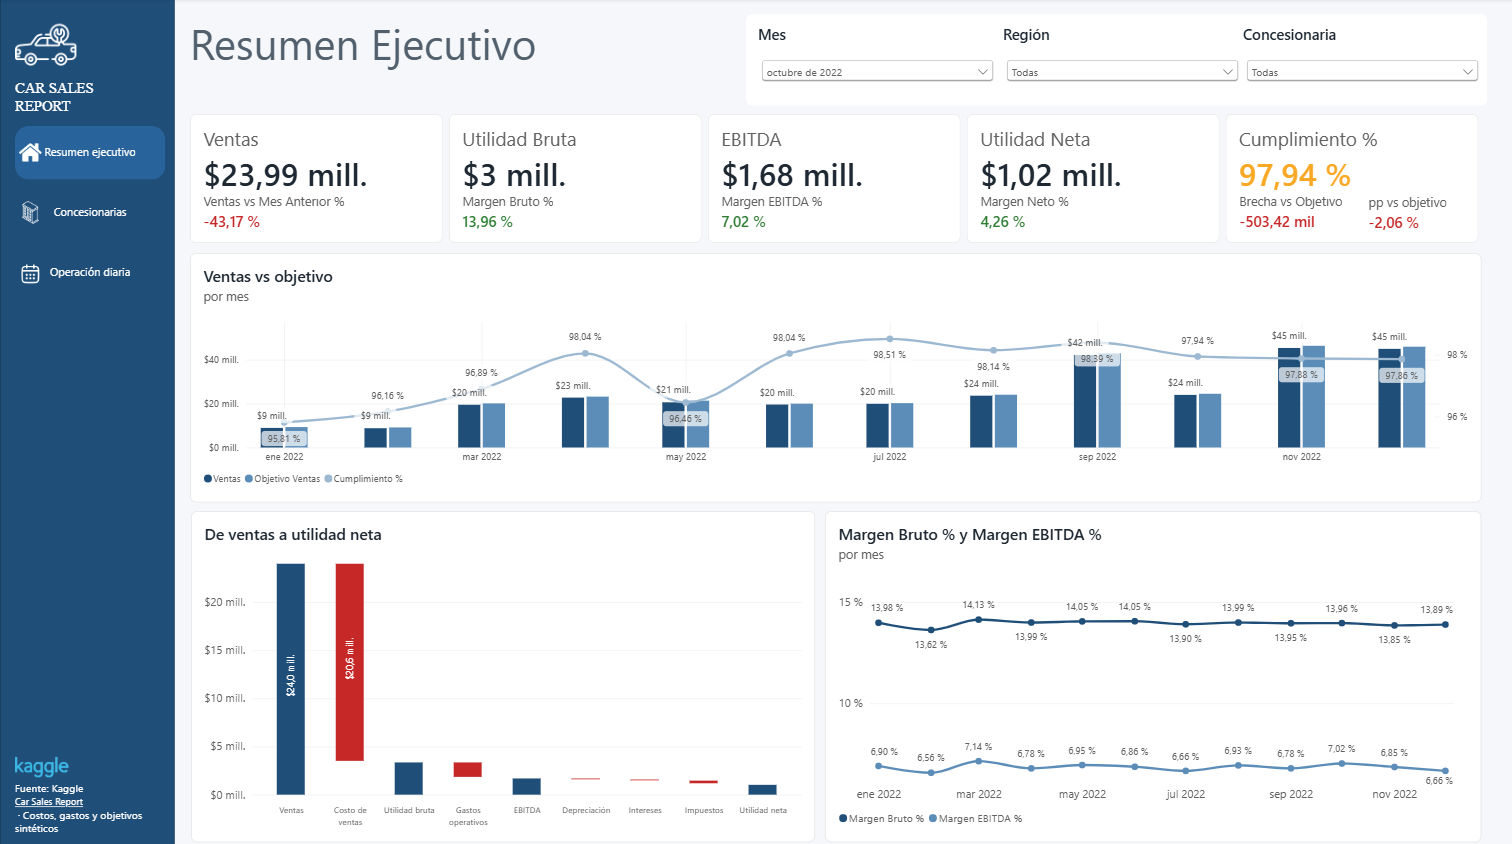

What the dashboard file says about the page in this screenshot:
{"tool":"powerbi","page":{"name":"Resumen ejecutivo","canvas":[1920,1080],"ordinal":0},"visuals":[{"type":"shape","box":[0,0,221.8,1080],"z":0,"group":"g2"},{"type":"shape","box":[948.3,20,941.7,116.7],"z":0,"group":"g1"},{"type":"group","id":"g1","title":"Group 2","box":[948.3,20,941.7,116.7],"z":0},{"type":"cardVisual","fields":{"Data":["kpis.Ventas","kpis.Utilidad Bruta","kpis.EBITDA","kpis.Utilidad Neta","kpis.Cumplimiento %"]},"box":[242.1,147.7,1646,164.4],"z":0,"group":"g4"},{"type":"textbox","box":[241.7,20,685,116.7],"z":1000},{"type":"textbox","box":[18.8,104.1,191.2,56.5],"z":1000,"group":"g2"},{"type":"cardVisual","fields":{"Data":["kpis.Ventas vs Mes Anterior %","kpis.Margen Bruto %","kpis.Margen EBITDA %","kpis.Margen Neto %","kpis.Brecha vs Objetivo"]},"box":[243.5,253.7,1646,40.3],"z":1000,"group":"g4"},{"type":"slicer","title":"Mes","fields":{"Values":["DimMes.mes"]},"box":[963.3,33.3,303.8,103.3],"z":2000,"group":"g1"},{"type":"pageNavigator","box":[18.6,162.9,191.4,222.9],"z":2000,"group":"g2"},{"type":"lineClusteredColumnComboChart","title":"Ventas vs objetivo","fields":{"Category":["DimMes.mes"],"Y":["kpis.Ventas","kpis.Objetivo Ventas"],"Y2":["kpis.Cumplimiento %"]},"box":[242.1,324.3,1647.5,316.7],"z":3000},{"type":"lineChart","title":"Margen Bruto % y Margen EBITDA %","fields":{"Category":["DimMes.mes"],"Y":["kpis.Margen Bruto %","kpis.Margen EBITDA %"]},"box":[1049.1,651.7,840.5,421.8],"z":4000},{"type":"group","id":"g2","title":"Group 1","box":[0,0,221.8,1080],"z":5000,"group":"g3"},{"type":"group","id":"g3","title":"Group 3","box":[0,0,221.8,1080],"z":5000},{"type":"columnChart","title":"De ventas a utilidad neta","fields":{"Category":["CascadaPasos.Paso"],"Y":["kpis.Cascada Base","kpis.Cascada Total","kpis.Cascada Baja"]},"box":[242.9,651.4,792.9,421.4],"z":6000},{"type":"image","box":[18.8,20.6,78.6,77.9],"z":7000,"group":"g2"},{"type":"slicer","title":"Región","fields":{"Values":["dim_concesionaria.region"]},"box":[1274.4,33.3,303.8,103.3],"z":7000,"group":"g1"},{"type":"group","id":"g4","title":"Group 4","box":[242.1,147.7,1647.5,164.4],"z":7000},{"type":"cardVisual","fields":{"Data":["kpis.pp vs objetivo"]},"box":[1723.1,243.1,151.1,62.2],"z":7500},{"type":"slicer","title":"Concesionaria","fields":{"Values":["dim_concesionaria.dealer_name"]},"box":[1579.4,33.3,303.8,103.3],"z":8000,"group":"g1"},{"type":"image","box":[18.5,181.2,39.5,28.6],"z":9500,"group":"g3"},{"type":"image","box":[18.5,258.5,39.5,28.6],"z":10000,"group":"g3"},{"type":"image","box":[18.5,336.5,39.5,28.6],"z":10500,"group":"g3"},{"type":"image","box":[18.5,959.2,68.2,35.9],"z":11000,"group":"g2"},{"type":"textbox","box":[18.5,995.4,170,77.7],"z":12000,"group":"g2"}]}

Visuals, with their boxes on the page's 1920x1080 design canvas (x1, y1, x2, y2). These are canvas units, not pixel positions in the 1512x844 screenshot, which may show the page scaled, cropped or inside an application window:
shape: bbox=[0, 0, 222, 1080]
shape: bbox=[948, 20, 1890, 137]
"Group 2" group: bbox=[948, 20, 1890, 137]
cardVisual - kpis.Ventas x kpis.Utilidad Bruta: bbox=[242, 148, 1888, 312]
textbox: bbox=[242, 20, 927, 137]
textbox: bbox=[19, 104, 210, 161]
cardVisual - kpis.Ventas vs Mes Anterior % x kpis.Margen Bruto %: bbox=[244, 254, 1890, 294]
"Mes" slicer: bbox=[963, 33, 1267, 137]
pageNavigator: bbox=[19, 163, 210, 386]
"Ventas vs objetivo" lineClusteredColumnComboChart: bbox=[242, 324, 1890, 641]
"Margen Bruto % y Margen EBITDA %" lineChart: bbox=[1049, 652, 1890, 1074]
"Group 1" group: bbox=[0, 0, 222, 1080]
"Group 3" group: bbox=[0, 0, 222, 1080]
"De ventas a utilidad neta" columnChart: bbox=[243, 651, 1036, 1073]
image: bbox=[19, 21, 97, 98]
"Región" slicer: bbox=[1274, 33, 1578, 137]
"Group 4" group: bbox=[242, 148, 1890, 312]
cardVisual - kpis.pp vs objetivo: bbox=[1723, 243, 1874, 305]
"Concesionaria" slicer: bbox=[1579, 33, 1883, 137]
image: bbox=[18, 181, 58, 210]
image: bbox=[18, 258, 58, 287]
image: bbox=[18, 336, 58, 365]
image: bbox=[18, 959, 87, 995]
textbox: bbox=[18, 995, 188, 1073]
